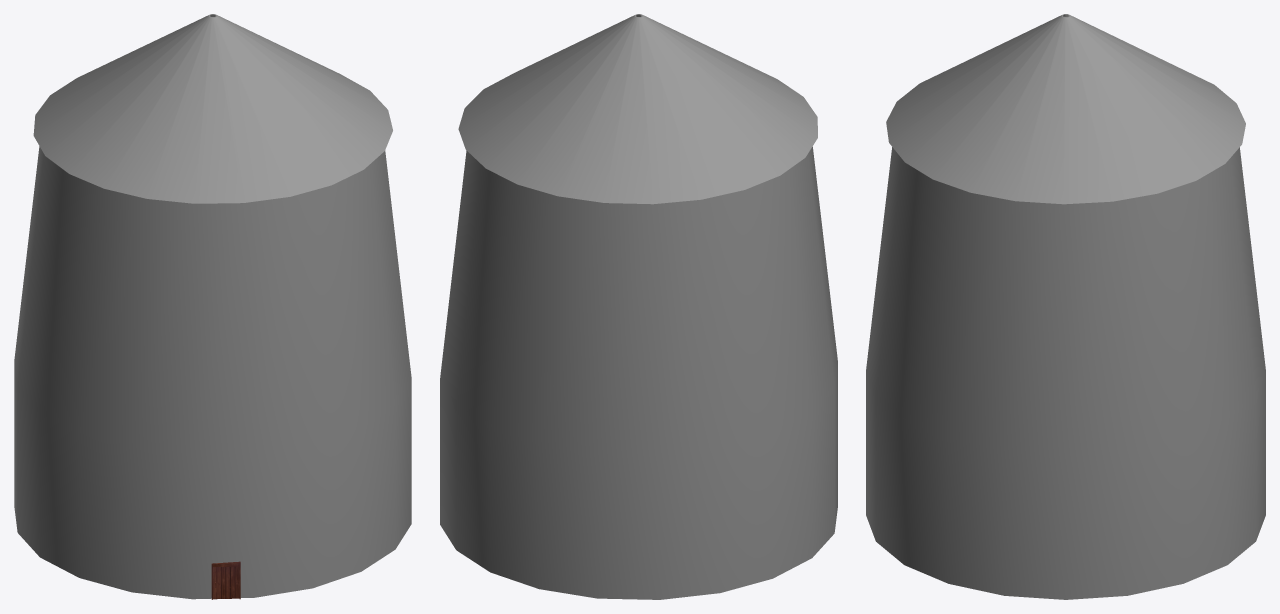
Rendered from MousaBrochTower.FBX.
3 views of the same model, side by side, from view 1: azimuth 30°, elevation 25°; view 2: azimuth 150°, elevation 25°; view 3: azimuth 270°, elevation 25° (orthographic).
Visible parts, largest first — view 1: Broch_LP, BrockRoof, BrochDoor_LP; view 2: Broch_LP, BrockRoof; view 3: Broch_LP, BrockRoof.
Part boxes in pixels (left/top/right/bottom): Broch_LP: left=14, top=146, right=411, bottom=599; BrockRoof: left=33, top=14, right=392, bottom=203; BrochDoor_LP: left=212, top=566, right=239, bottom=599; Broch_LP: left=440, top=146, right=837, bottom=599; BrockRoof: left=458, top=14, right=817, bottom=204; Broch_LP: left=866, top=147, right=1265, bottom=599; BrockRoof: left=886, top=14, right=1245, bottom=204.
Size of the model in its own units: 35.76 by 49.34 by 35.76.
Materials: 2 (1 with a texture image).
